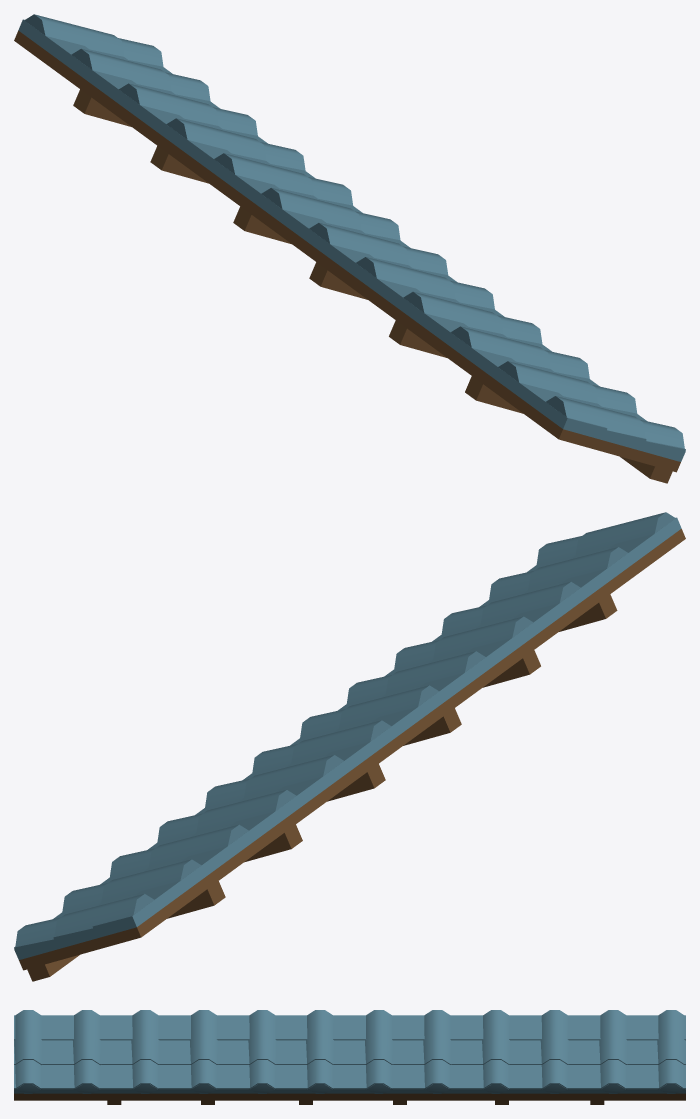
File: BlueRoof_Long_Half.fbx
3 renders of one model, top to bottom at view 1: azimuth 30°, elevation 25°; view 2: azimuth 150°, elevation 25°; view 3: azimuth 270°, elevation 25°, orthographic. The views are drawn at different scales.
Visible parts, largest first — view 1: BlueRoof_Long_Half; view 2: BlueRoof_Long_Half; view 3: BlueRoof_Long_Half.
Part boxes in pixels (box(x1,y1,x2,y2)): BlueRoof_Long_Half: box(14, 14, 685, 483); BlueRoof_Long_Half: box(14, 512, 685, 981); BlueRoof_Long_Half: box(14, 1010, 685, 1104).
Size of what is drawn, in the model's own units: 70.48 by 51.4 by 480.
